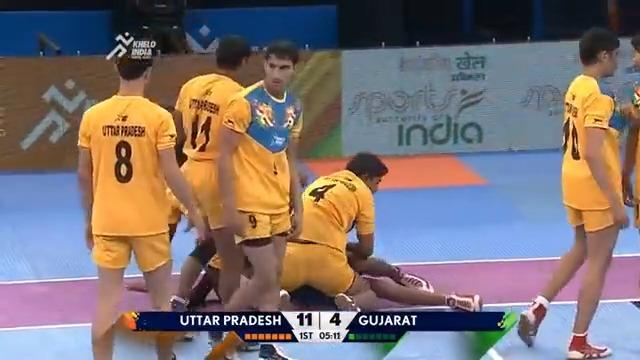Player: (76, 33, 207, 358), (516, 26, 630, 358), (278, 151, 482, 313), (203, 39, 306, 358), (167, 35, 253, 315)
referee: (618, 33, 639, 309), (113, 0, 190, 56)
